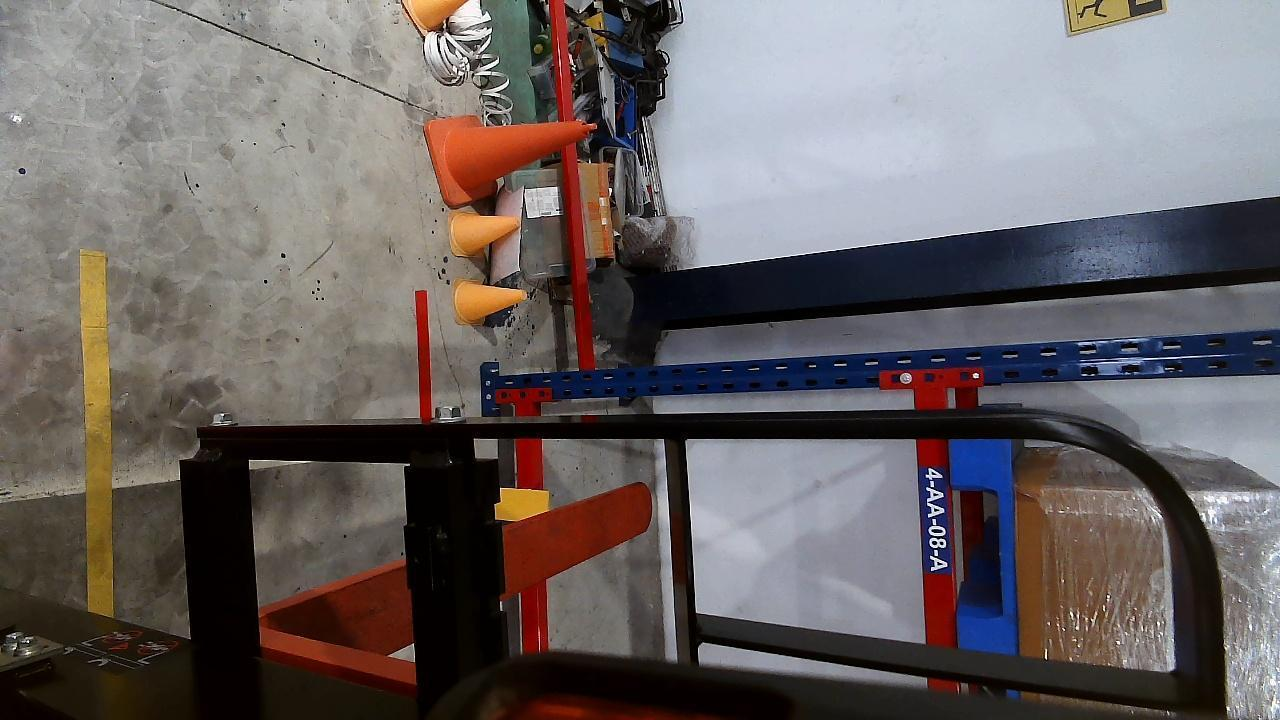red_line: (413, 290, 435, 420)
yellow_line: (79, 248, 112, 617)
